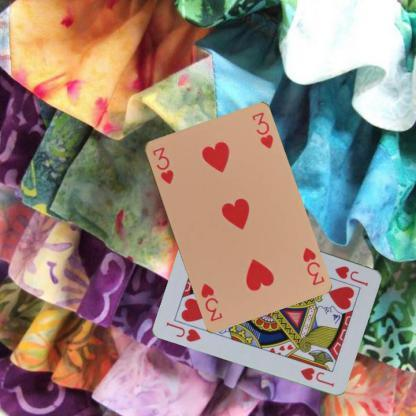3h: (150, 144, 176, 186), (300, 244, 326, 286)
Jh: (333, 263, 370, 288), (164, 320, 202, 344)
